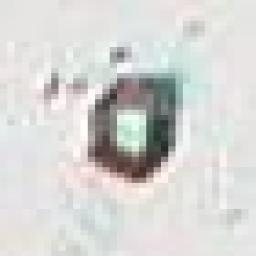crystals: (82, 71, 190, 187)
